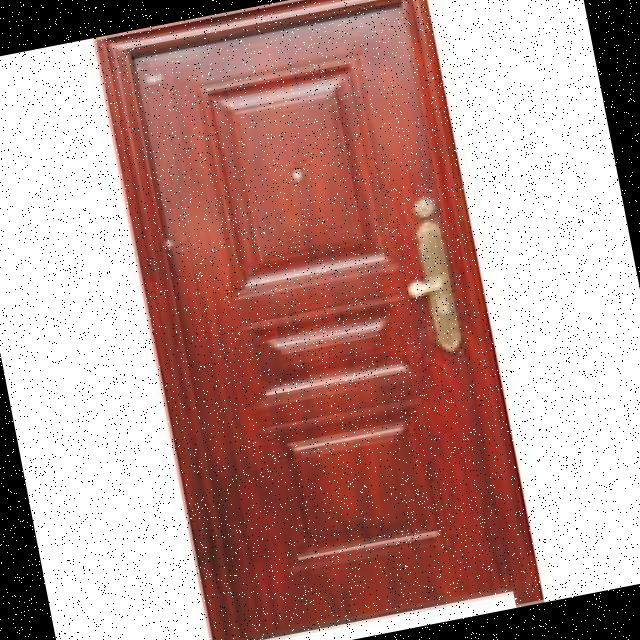Door: (89, 0, 544, 640)
